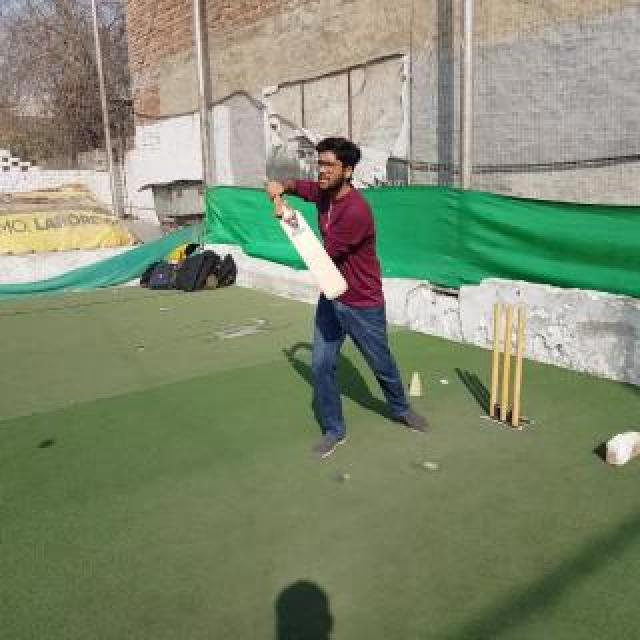bat: (260, 176, 348, 302)
